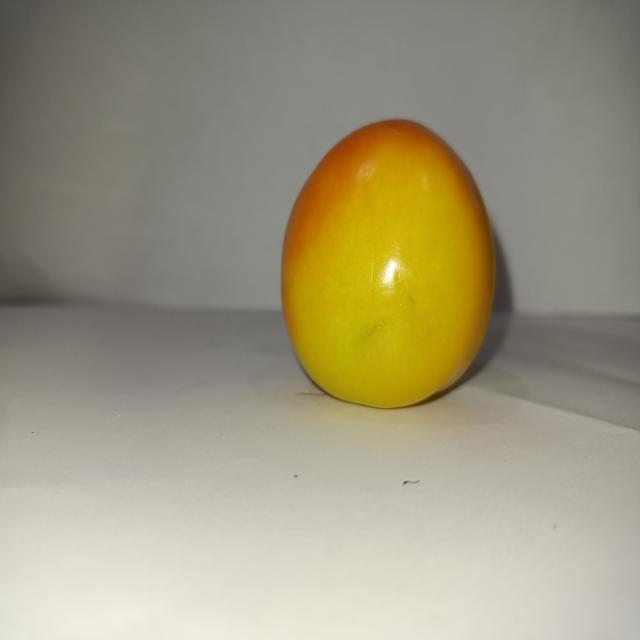Red: (279, 116, 497, 409)
